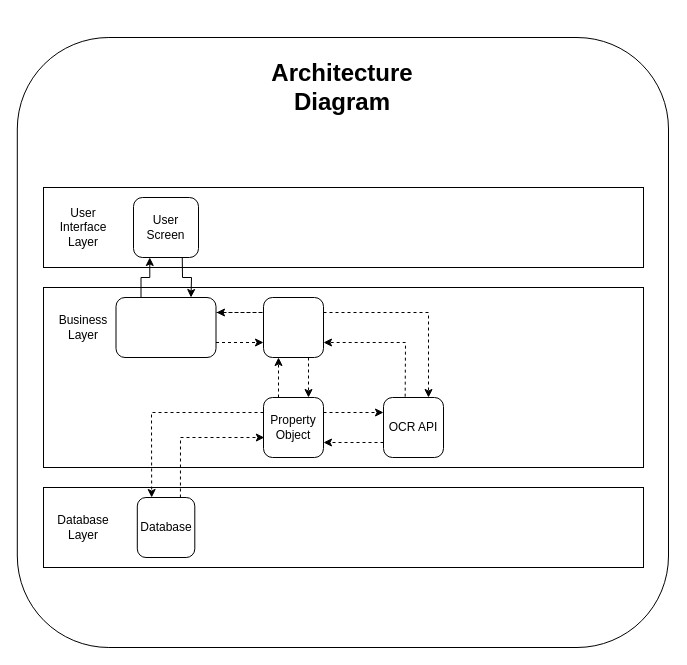
Image size: 687x665. Some labels were removed from this diagram. The centre of each missing label's shape, as x and y in pixels:
Authentication: the point at 165,327
User Object: the point at 293,327
